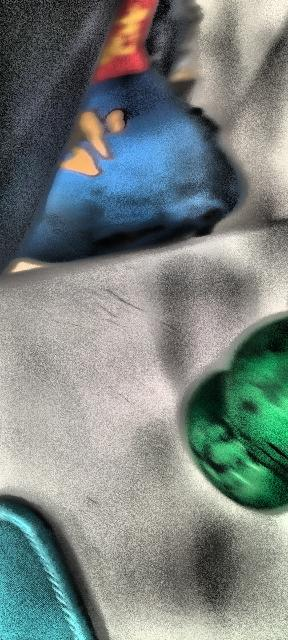green: (184, 312, 286, 510)
